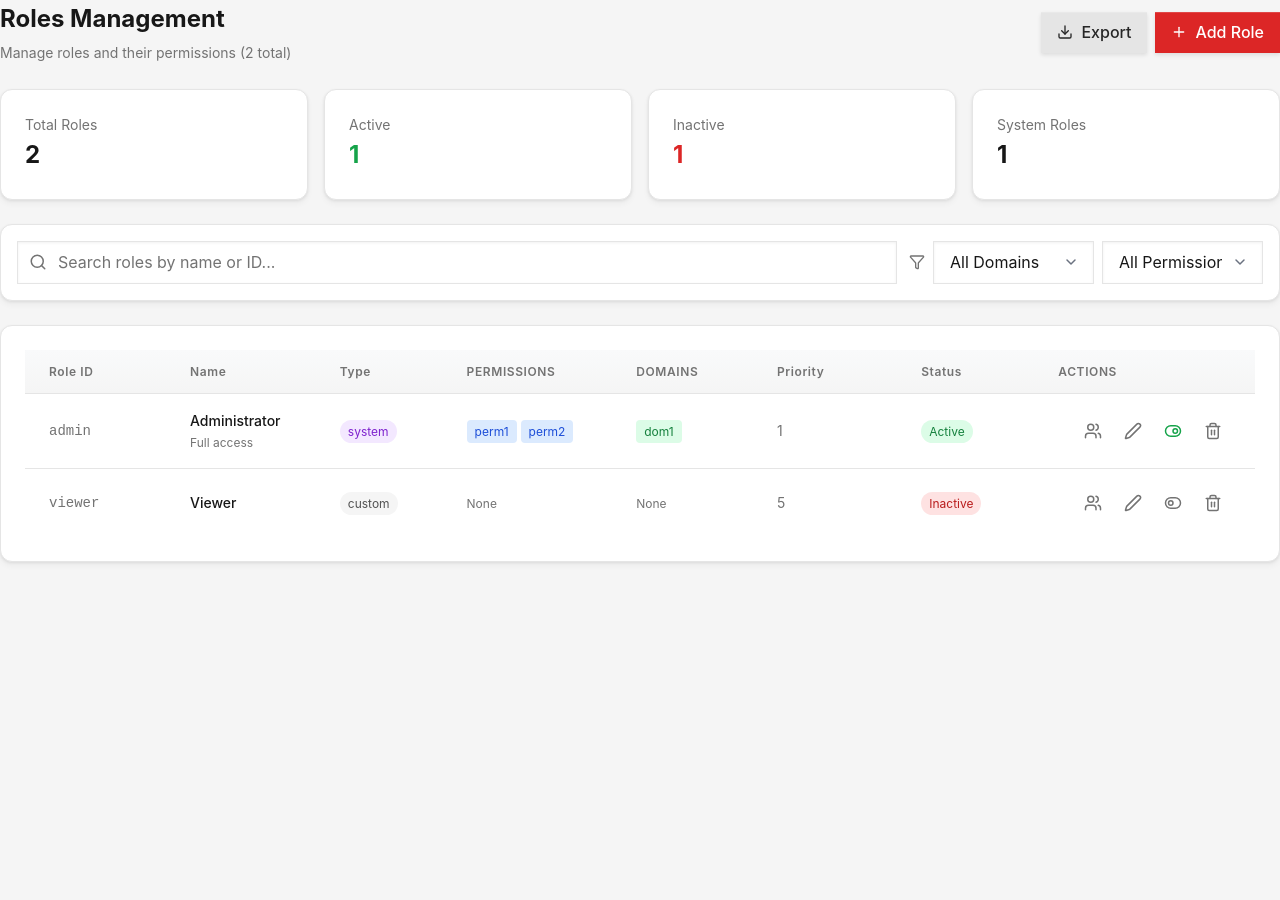
RolesManagement › opens edit modal with pre-populated data
Check: the text "Administrator" is shown, box top-left (190, 410), bottom-right (292, 433)
Click the button titled "Edit" in the row of "Administrator": (1133, 431) top-left (1115, 413), bottom-right (1151, 449)
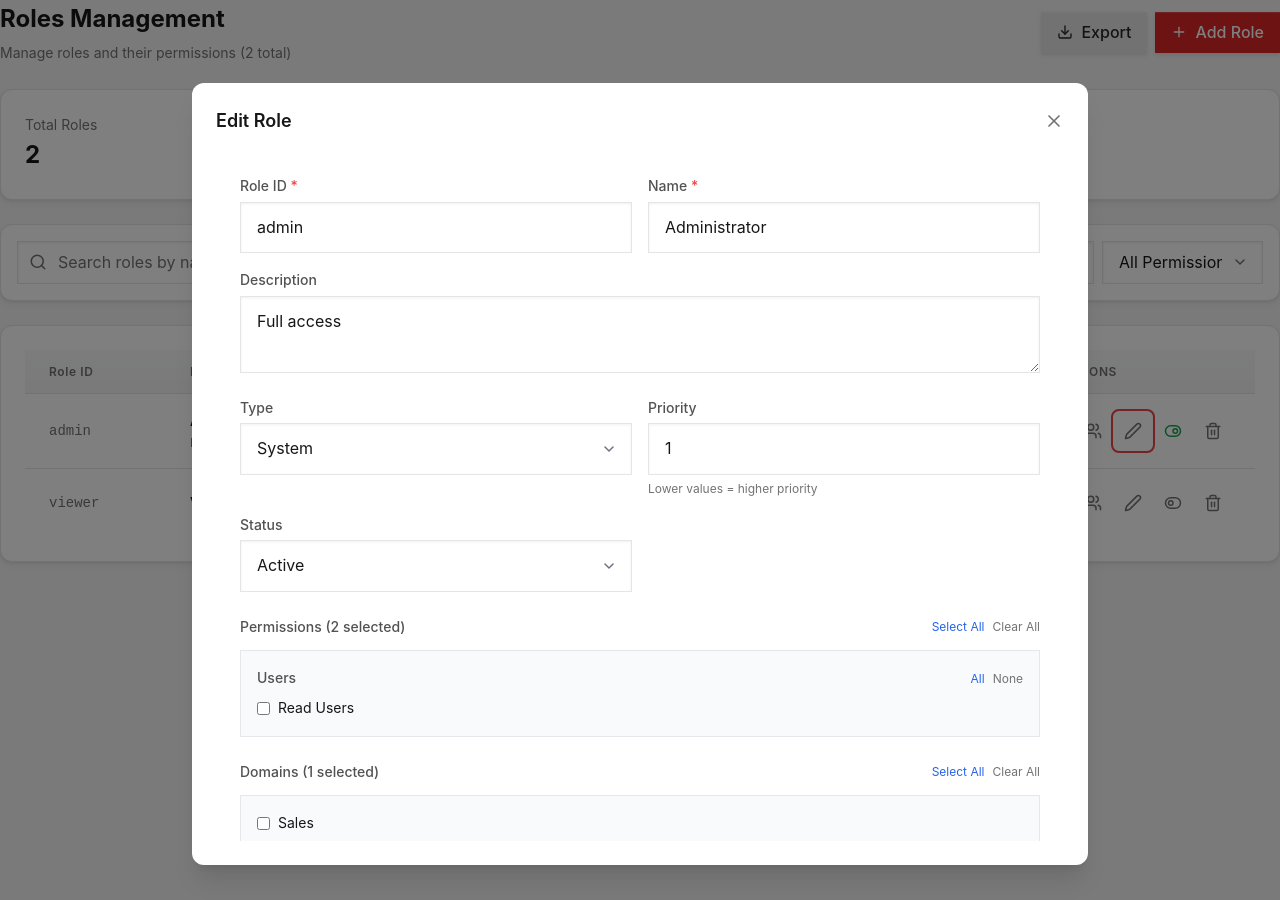
Check: the heading "Edit Role" is shown, box top-left (216, 107), bottom-right (292, 135)
Check: the 1st field showing "admin" is shown, box top-left (240, 202), bottom-right (632, 253)
Check: the 2nd field showing "Administrator" is shown, box top-left (648, 202), bottom-right (1040, 253)
